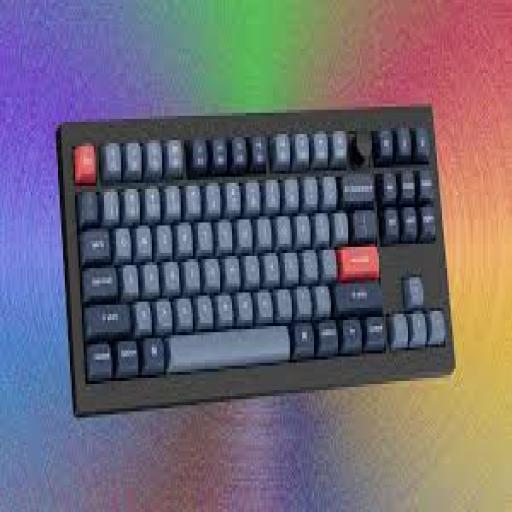KEYBOARD-2: (56, 107, 452, 414)
